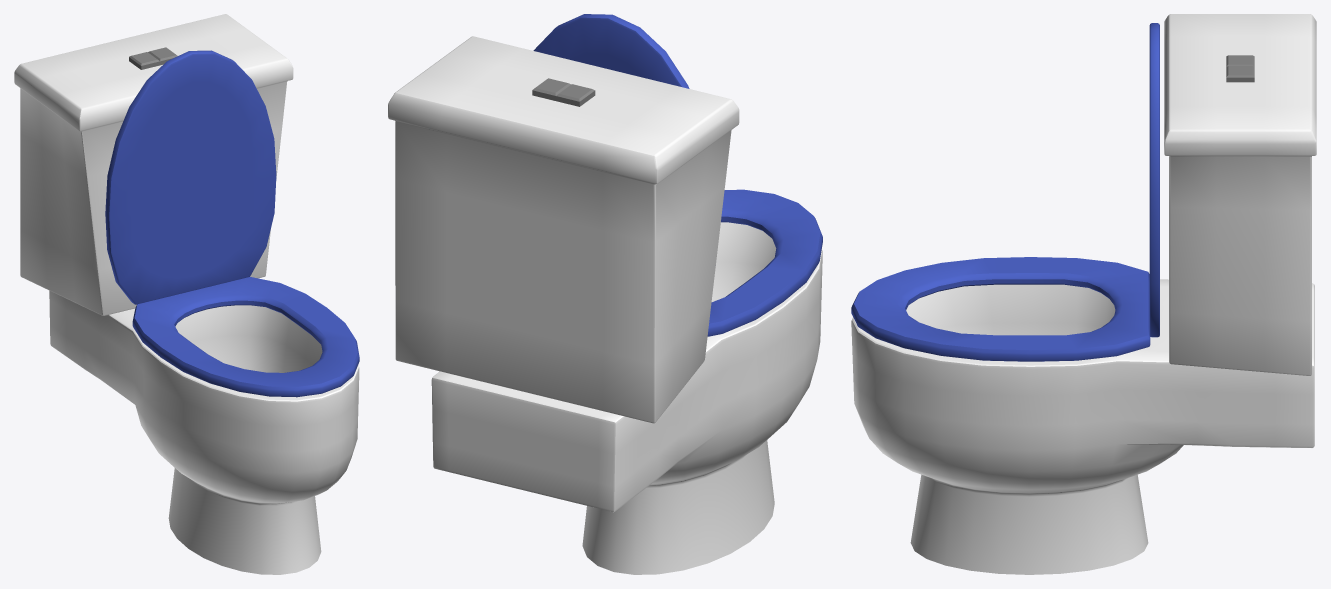
The model's file is SM_Toilet.fbx.
3 views of the same model, side by side, from view 1: azimuth 30°, elevation 25°; view 2: azimuth 150°, elevation 25°; view 3: azimuth 270°, elevation 25° (orthographic). The views are drawn at different scales.
Parts seen in each view (by area): view 1: Toilet; view 2: Toilet; view 3: Toilet.
Boxes of the visible parts, x1,y1,x2,y2 form: Toilet: (14, 14, 359, 574); Toilet: (388, 14, 822, 574); Toilet: (851, 14, 1316, 574).
Size of the model in its own units: 44.1 by 87.2 by 71.7.
